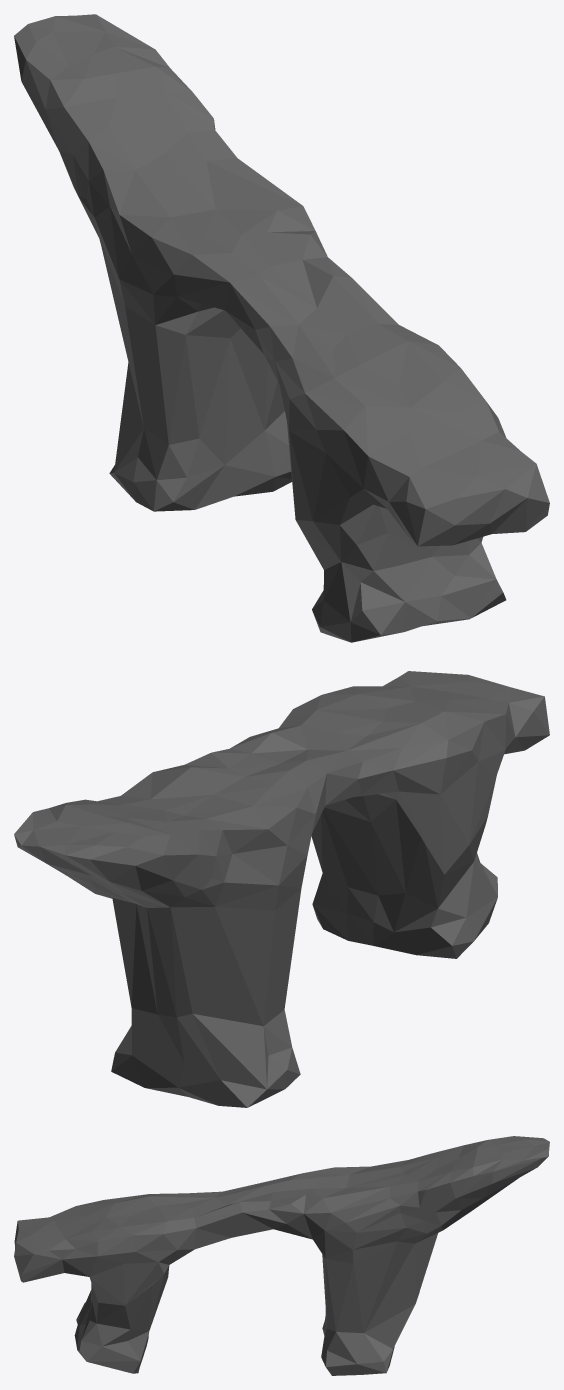
Rendered from rock5.fbx.
3 views of the same model, one above another, from view 1: azimuth 30°, elevation 25°; view 2: azimuth 150°, elevation 25°; view 3: azimuth 270°, elevation 25° (orthographic). The views are drawn at different scales.
Visible parts, largest first — view 1: Cube; view 2: Cube; view 3: Cube.
Part boxes in pixels (x1,y1,x2,y2): Cube: [14, 14, 549, 642]; Cube: [14, 671, 549, 1107]; Cube: [14, 1136, 549, 1375].
Size of the model in its own units: 40.19 by 85.44 by 194.
